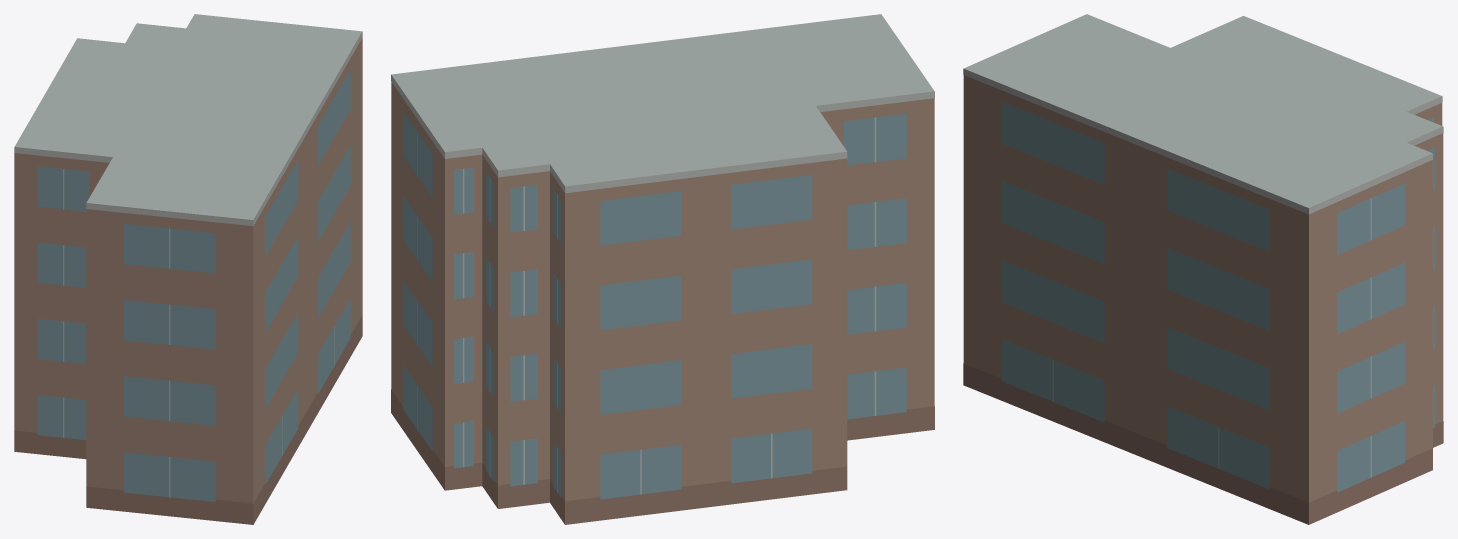
Rendered from residential-40167440-2f91-4536-8603-3222ae7f5133.glb.
The picture shows the model from 3 angles, left to right: view 1: azimuth 30°, elevation 25°; view 2: azimuth 150°, elevation 25°; view 3: azimuth 270°, elevation 25°; orthographic projection. The views are drawn at different scales.
Parts seen in each view (by area): view 1: residential-40167440-2f91-4536-8603-3222ae7f5133.tmp; view 2: residential-40167440-2f91-4536-8603-3222ae7f5133.tmp; view 3: residential-40167440-2f91-4536-8603-3222ae7f5133.tmp.
Boxes of the visible parts, bbox=[...] form: residential-40167440-2f91-4536-8603-3222ae7f5133.tmp: bbox=[14, 14, 362, 524]; residential-40167440-2f91-4536-8603-3222ae7f5133.tmp: bbox=[391, 14, 934, 524]; residential-40167440-2f91-4536-8603-3222ae7f5133.tmp: bbox=[963, 14, 1443, 524].
Size of the model in its own units: 16.05 by 12.2 by 16.76.
